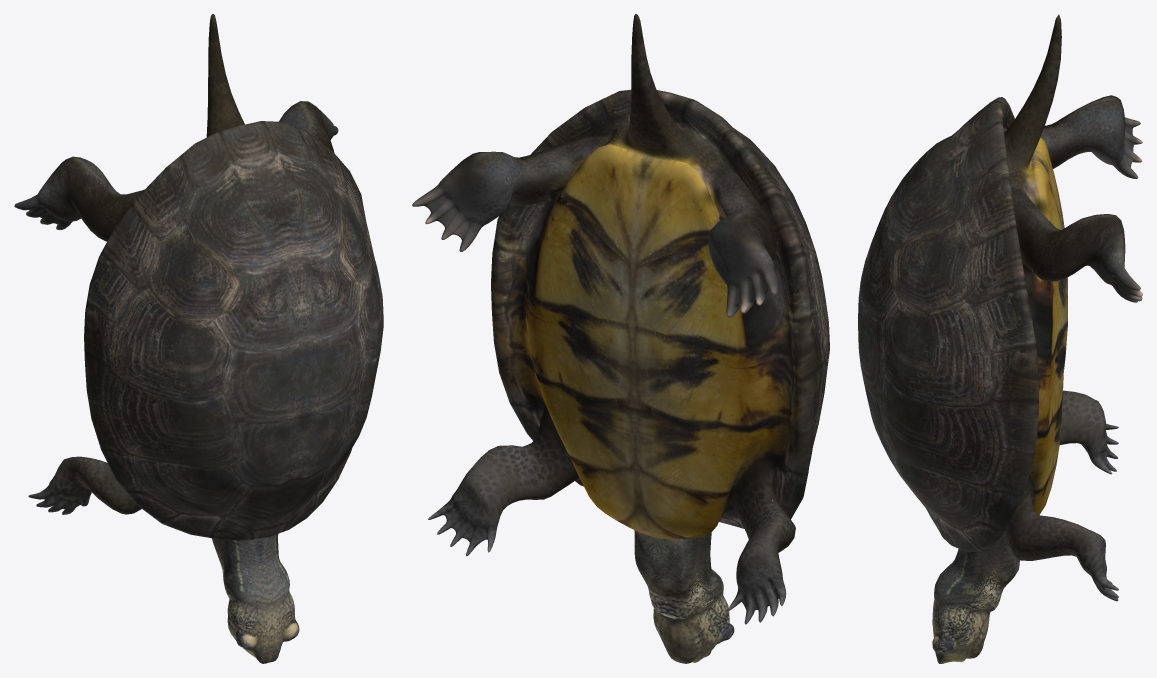
Rendered from turtle.obj.
3 views of the same model, side by side, from view 1: azimuth 30°, elevation 25°; view 2: azimuth 150°, elevation 25°; view 3: azimuth 270°, elevation 25° (orthographic). The views are drawn at different scales.
Parts seen in each view (by area): view 1: 13102_pondturtle001; view 2: 13102_pondturtle001; view 3: 13102_pondturtle001.
Part boxes in pixels (x1,y1,x2,y2): 13102_pondturtle001: [14, 14, 383, 663]; 13102_pondturtle001: [412, 14, 829, 663]; 13102_pondturtle001: [858, 14, 1142, 663].
Bounding box in the file's own units: 10.44 × 18.86 × 7.53.
1 material, 1 textured.
